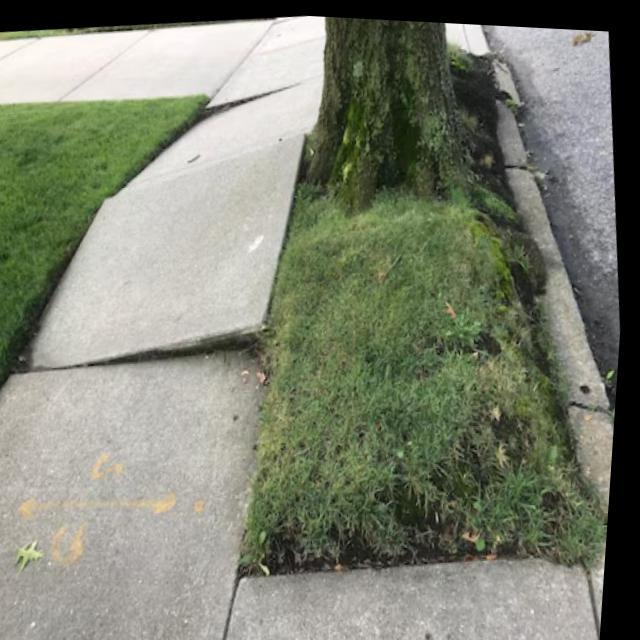bump: (0, 286, 330, 404)
